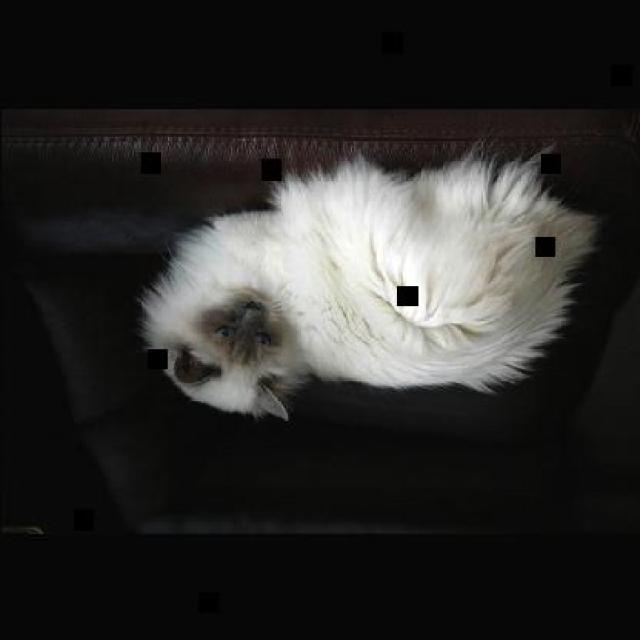unauthorized: (136, 134, 602, 421)
